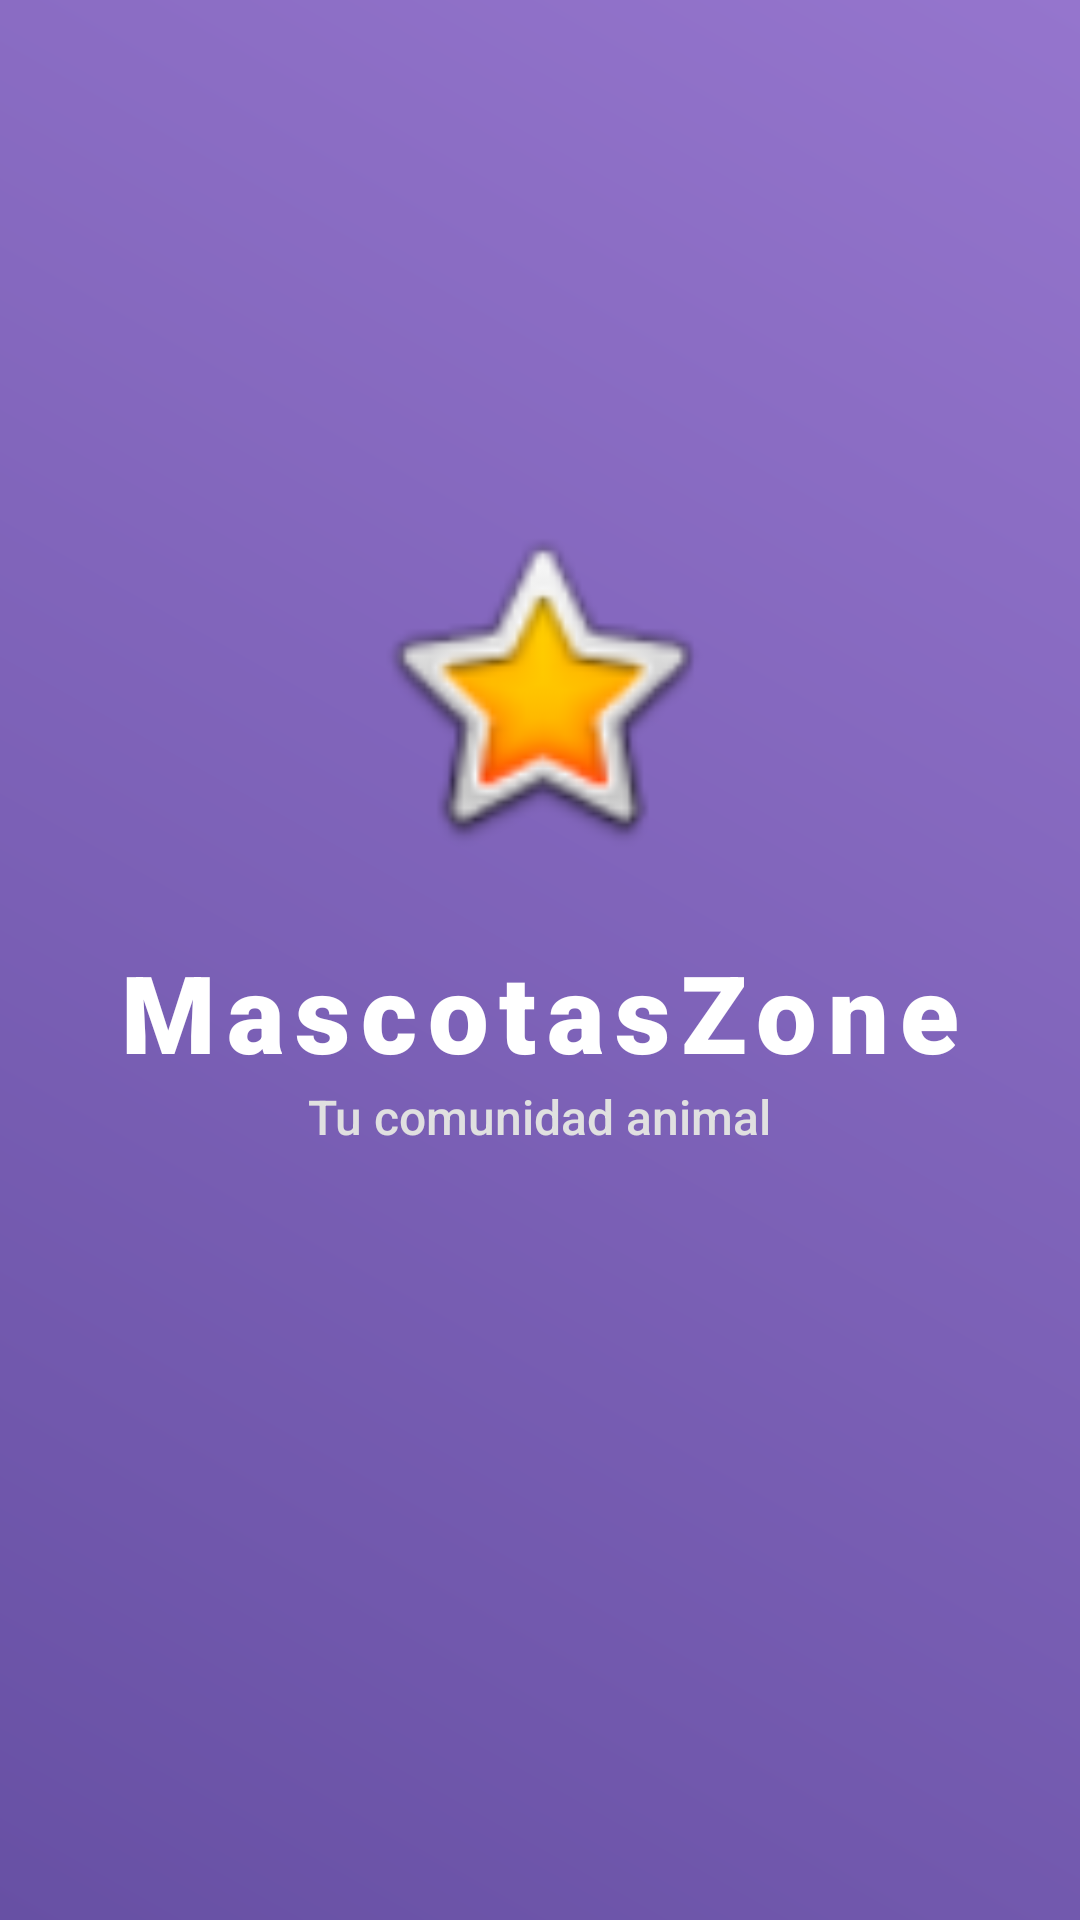

Point at icon controls on the screen. Image size 1080x1920, points as point (x, y).
star on: point (543, 690)
